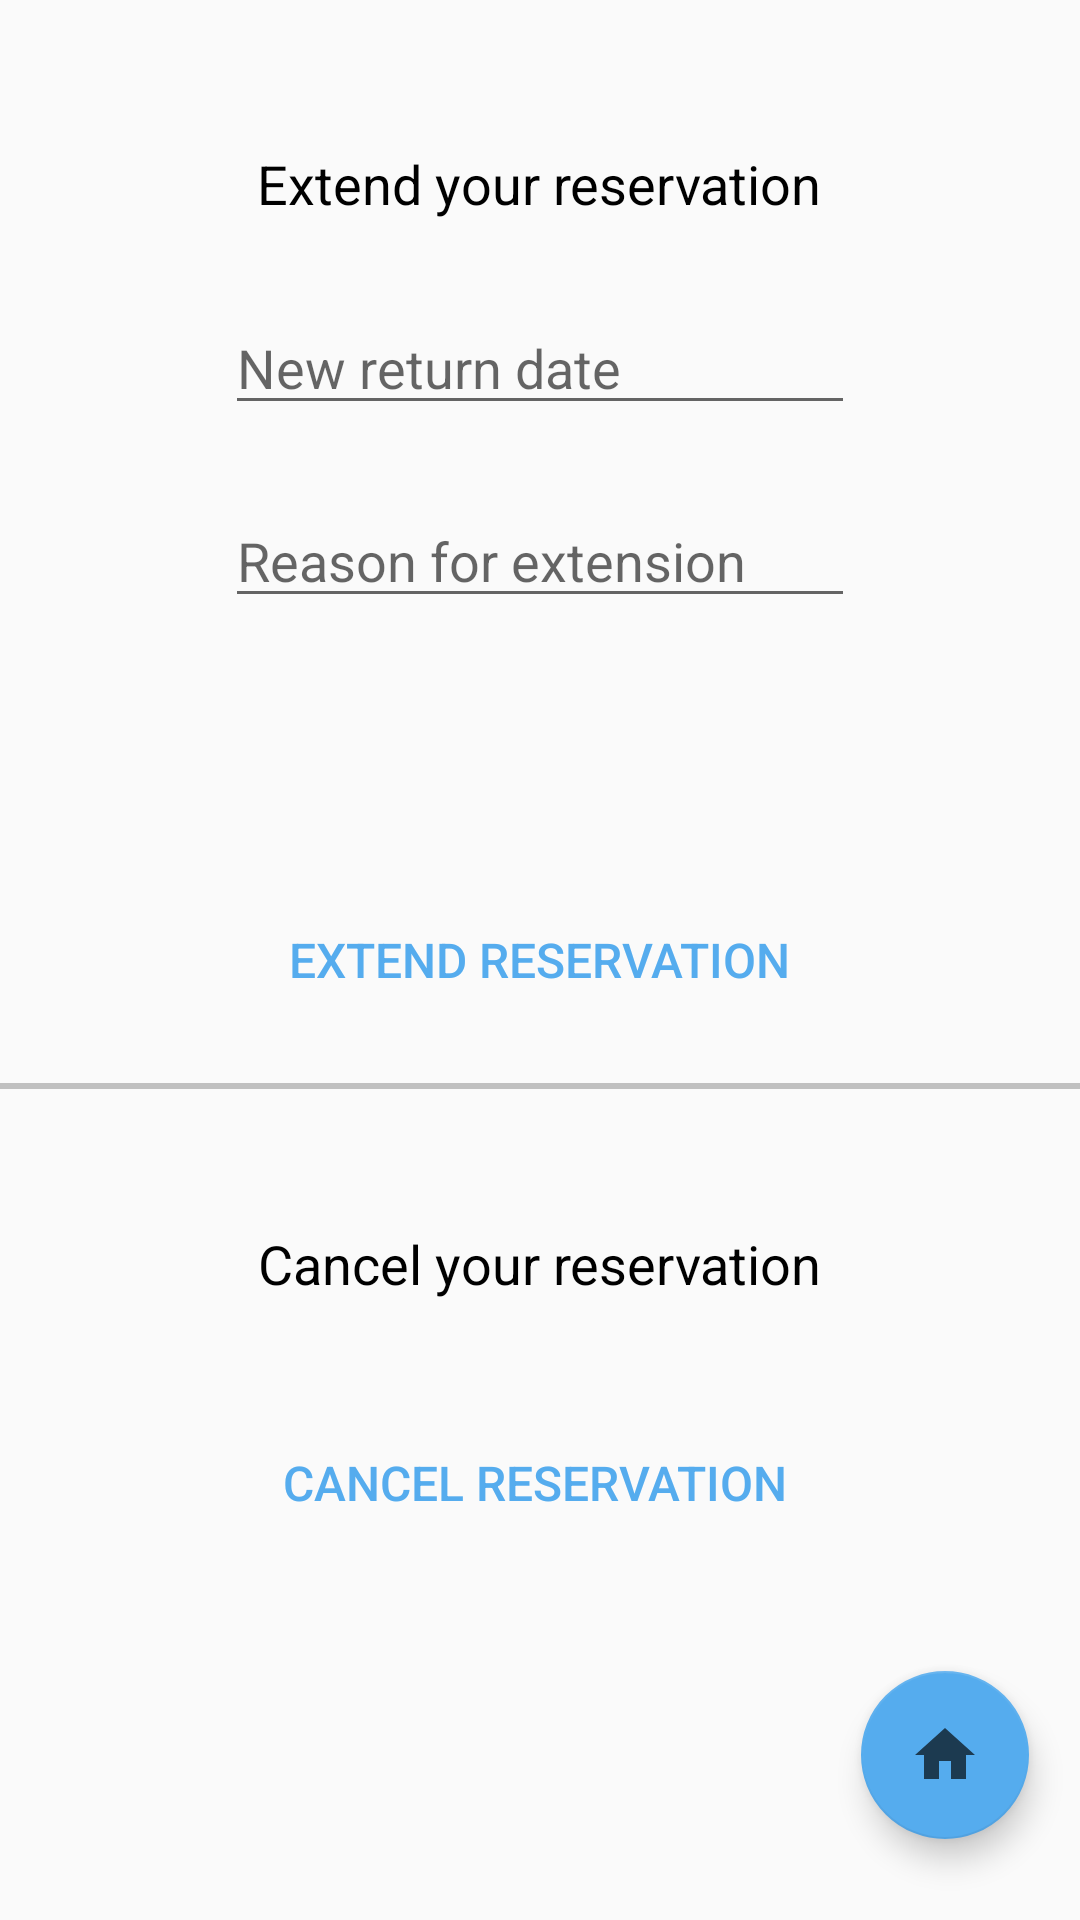

Named icons in this screenshot (1080x1920) and their bounding boxes, {"left": x1, "top": y1, "right": x2, "bottom": y2}:
home: {"left": 861, "top": 1671, "right": 1029, "bottom": 1839}
